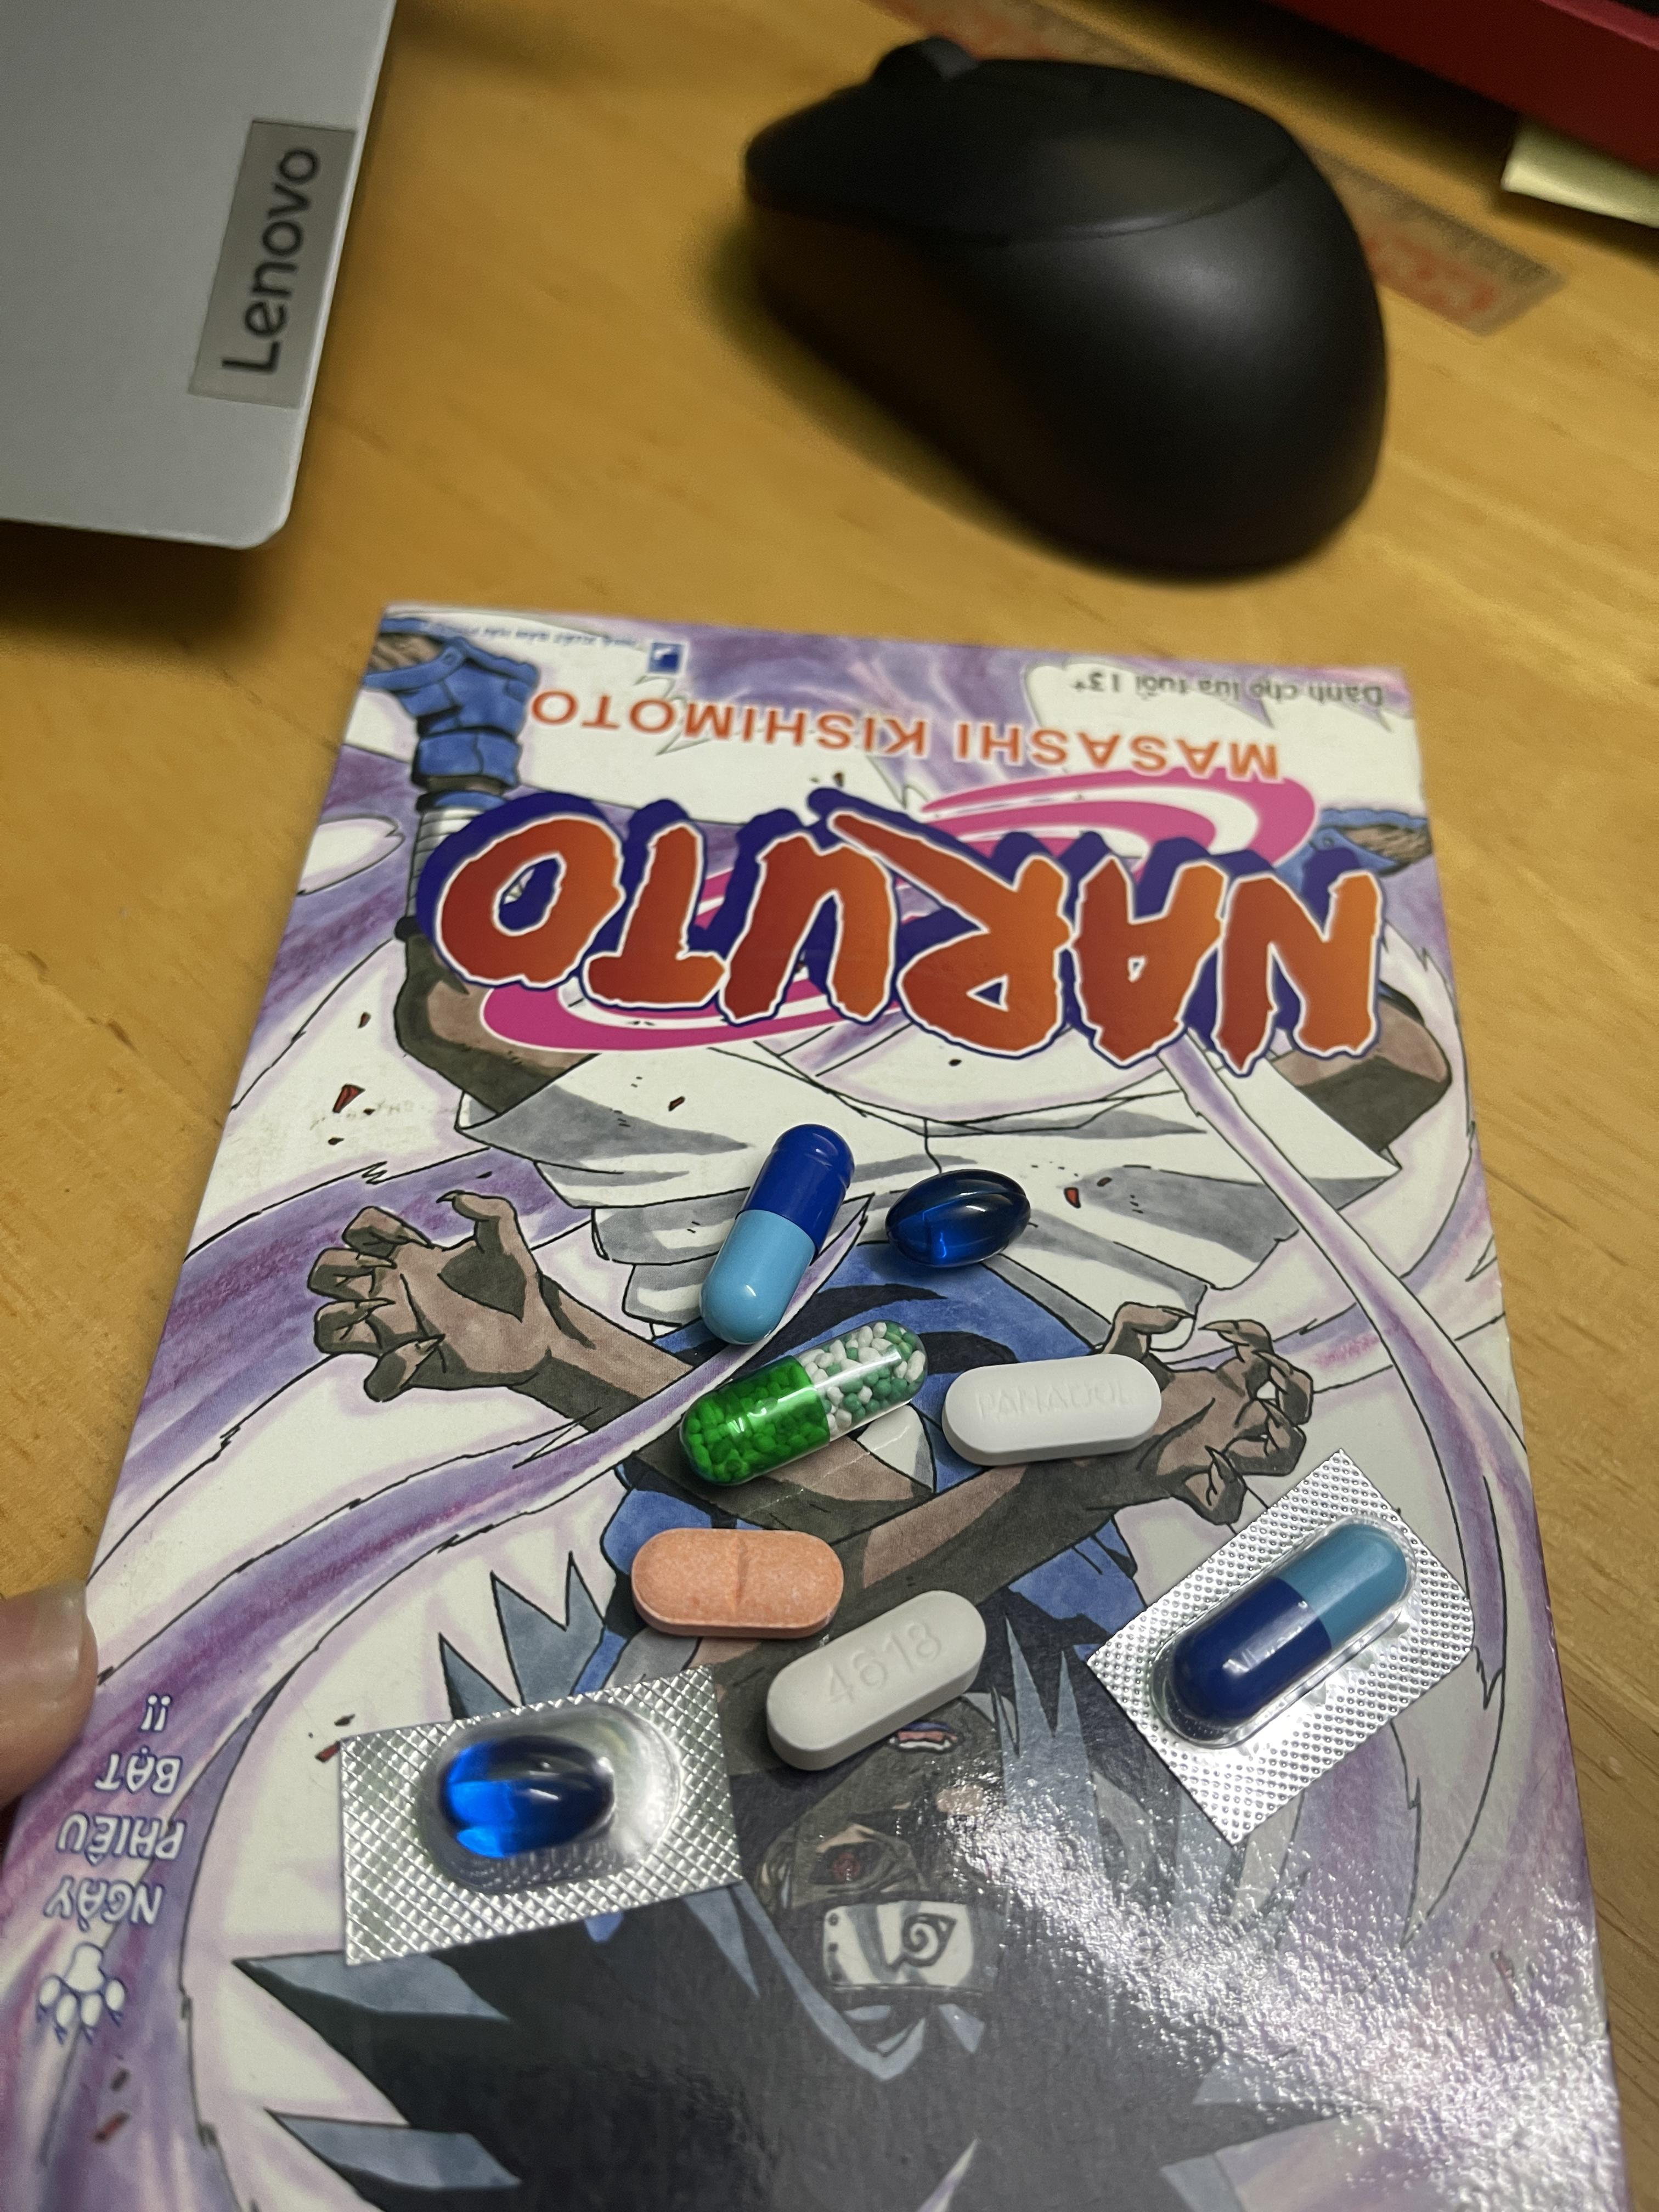Lincomyxin_500mg: (444, 1738, 617, 1858), (887, 1174, 1030, 1268)
Loratadine_10mg: (629, 1527, 840, 1632)
Paracetamol_350mg: (943, 1352, 1162, 1468)
Paracetamol_500mg: (767, 1587, 988, 1771)
Paracetamol_650mg: (681, 1322, 924, 1487)
pill: (1162, 1524, 1408, 1738), (695, 1127, 852, 1346)
